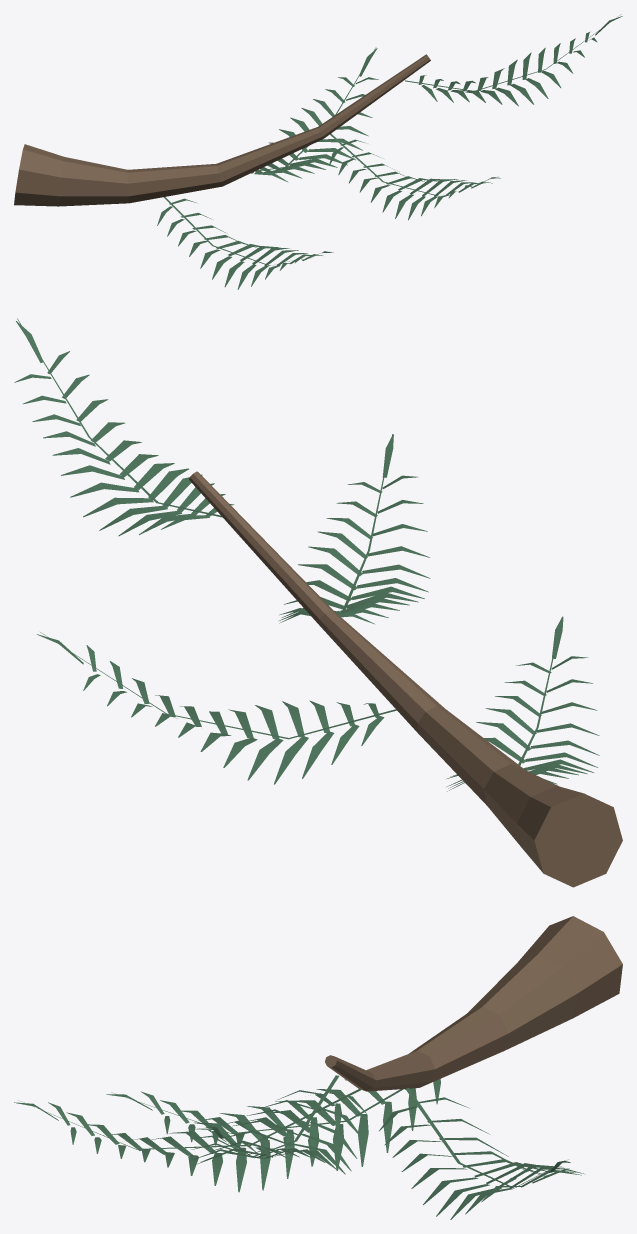
The model's file is conifer-unit.glb.
The picture shows the model from 3 angles, top to bottom: view 1: azimuth 30°, elevation 25°; view 2: azimuth 150°, elevation 25°; view 3: azimuth 270°, elevation 25°; orthographic projection. The views are drawn at different scales.
Parts seen in each view (by area): view 1: Unchanged r12 wood excerpt, Original thin needle surfaces | a-ribbon; view 2: Unchanged r12 wood excerpt, Original thin needle surfaces | a-ribbon; view 3: Unchanged r12 wood excerpt, Original thin needle surfaces | a-ribbon.
Boxes of the visible parts, box(x1,y1,x2,y2) form: Unchanged r12 wood excerpt: box(14, 54, 430, 206); Original thin needle surfaces | a-ribbon: box(157, 14, 622, 289); Unchanged r12 wood excerpt: box(189, 471, 622, 887); Original thin needle surfaces | a-ribbon: box(14, 318, 599, 791); Unchanged r12 wood excerpt: box(325, 916, 622, 1091); Original thin needle surfaces | a-ribbon: box(14, 1075, 585, 1219).
Bounding box in the file's own units: 1.31 × 0.4692 × 0.8786.
